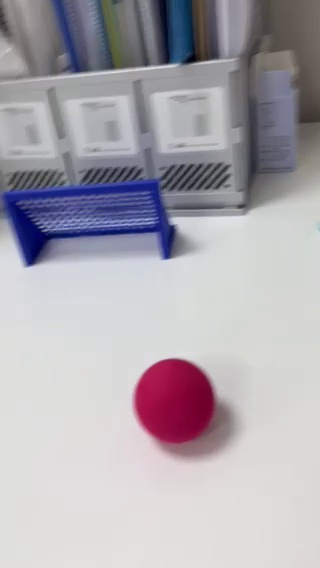goal: (3, 179, 174, 266)
redball: (132, 358, 214, 444)
